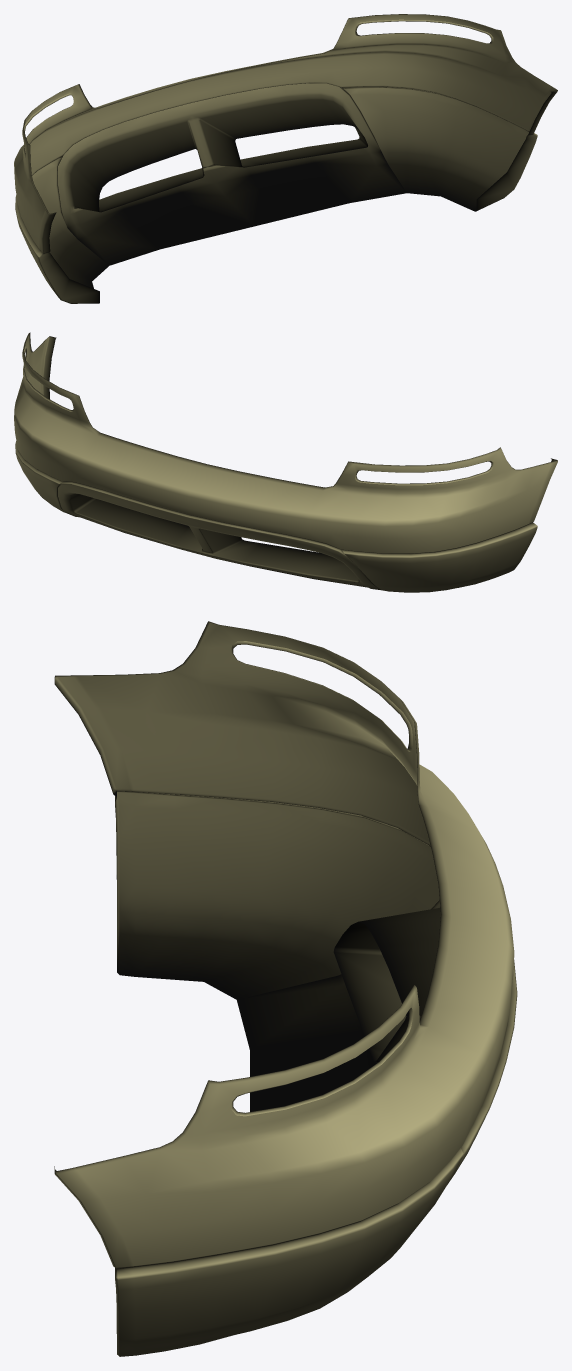
File: Viper_RB_01_Duco.fbx
3 renders of one model, top to bottom at view 1: azimuth 30°, elevation 25°; view 2: azimuth 150°, elevation 25°; view 3: azimuth 270°, elevation 25°, orthographic. The views are drawn at different scales.
Visible parts, largest first — view 1: Viper_RB_01_Duco; view 2: Viper_RB_01_Duco; view 3: Viper_RB_01_Duco.
Part boxes in pixels (x1,y1,x2,y2): Viper_RB_01_Duco: [14, 14, 557, 303]; Viper_RB_01_Duco: [14, 332, 557, 592]; Viper_RB_01_Duco: [54, 621, 517, 1356].
Bounding box in the file's own units: 191 × 55.08 × 75.03.
